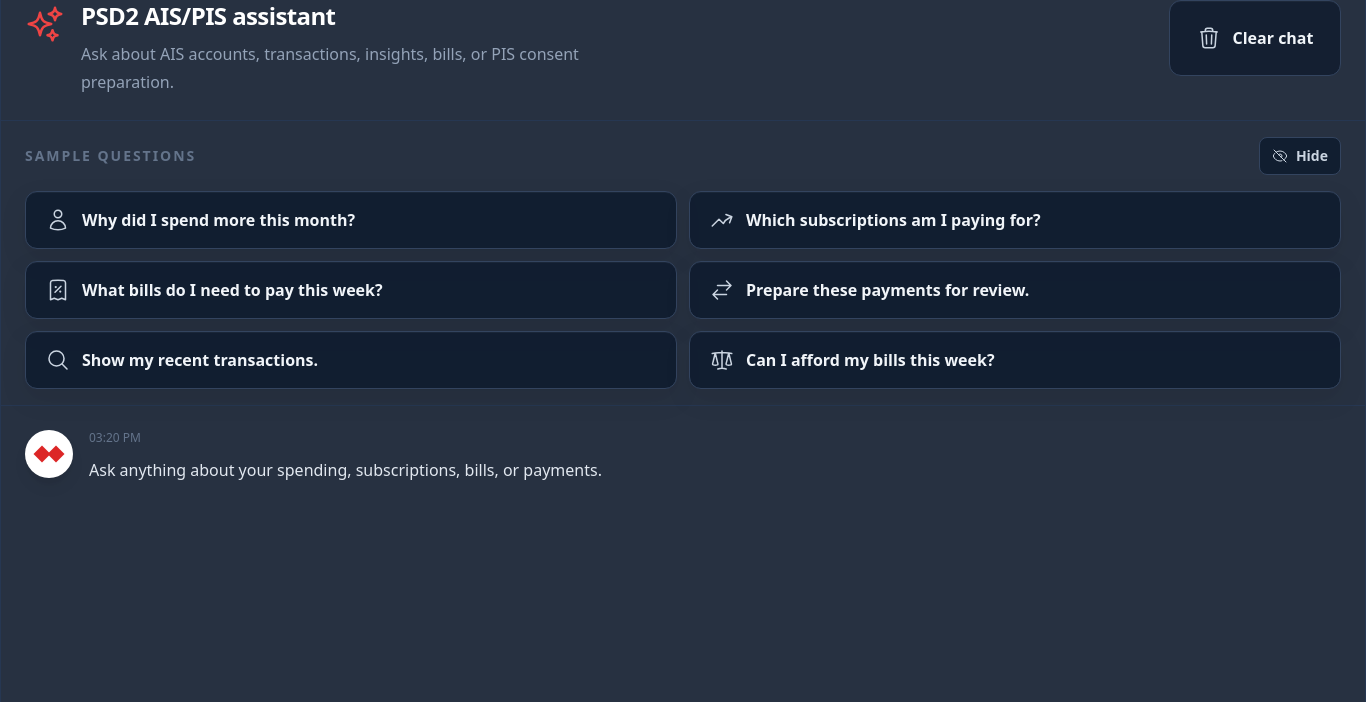
Scenario: FinancialAssistantChat › renders assistant markdown tables and blockquotes instead of raw pipe text
Click the button "Prepare these payments for review." at [1015, 290], box [689,261,1341,319]
(page scrolled)
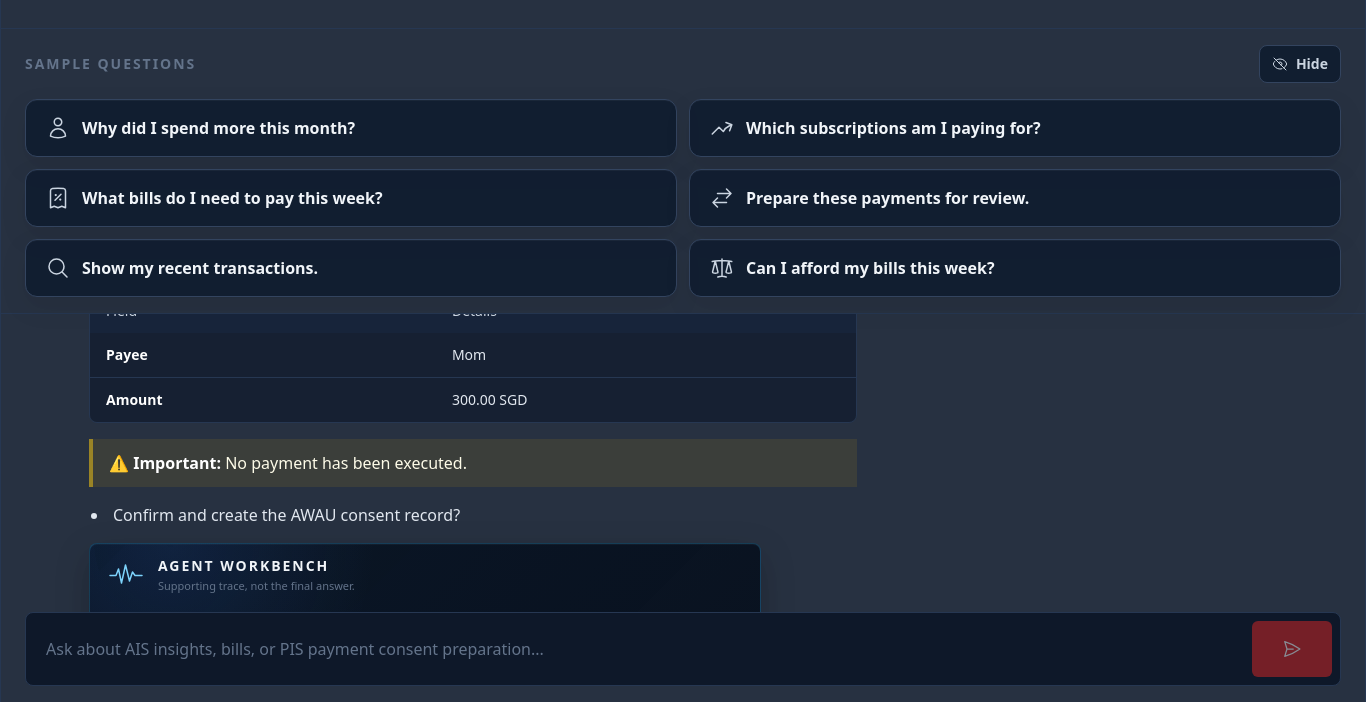
Now the table is shown, box [90,314,856,422]
Now the text "Mom" is shown, box [436,333,856,378]
Now the text "⚠️ Important: No payment has been executed." is shown, box [89,439,857,487]
